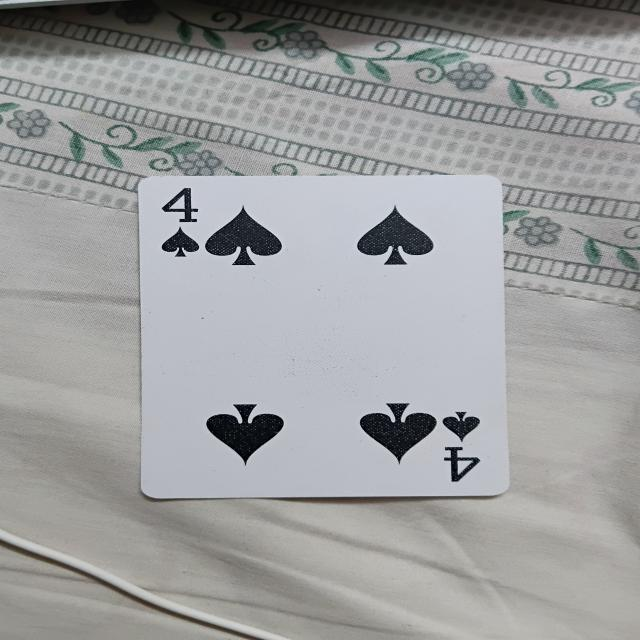4S: (150, 182, 502, 497)
